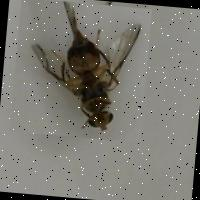Oriental-fruit-fly: (9, 0, 151, 141)
